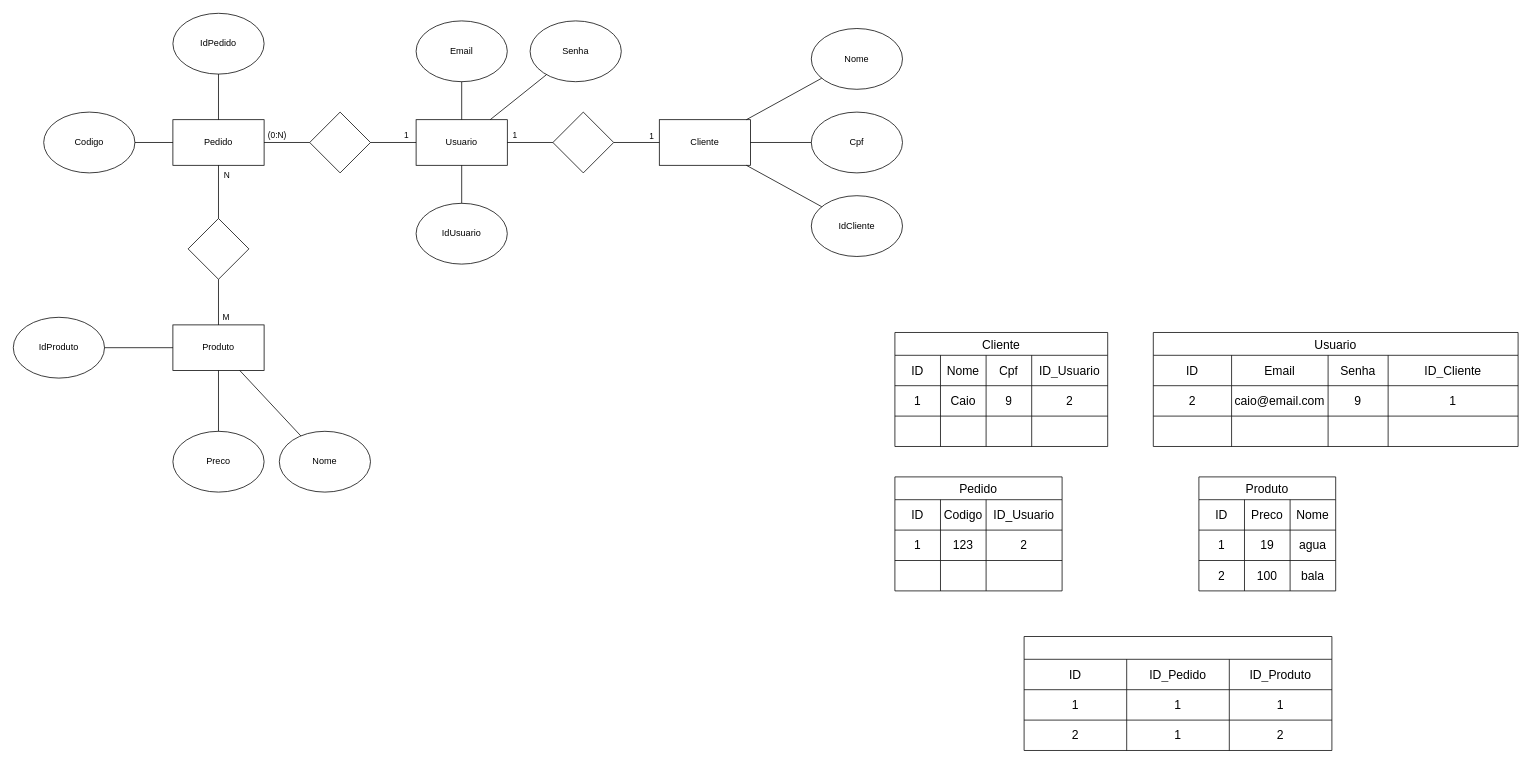
The diagram is 1531 pixels wide and 764 high, and some of its shapes have lost their labels. Here are the shapes that lost their labels. From the top down, the box of each, then its label:
(309, 111, 370, 173): realiza
(552, 111, 614, 173): cadastra
(187, 218, 249, 279): possui
(1023, 636, 1332, 750): Pedido_Produto_Relacionamento
